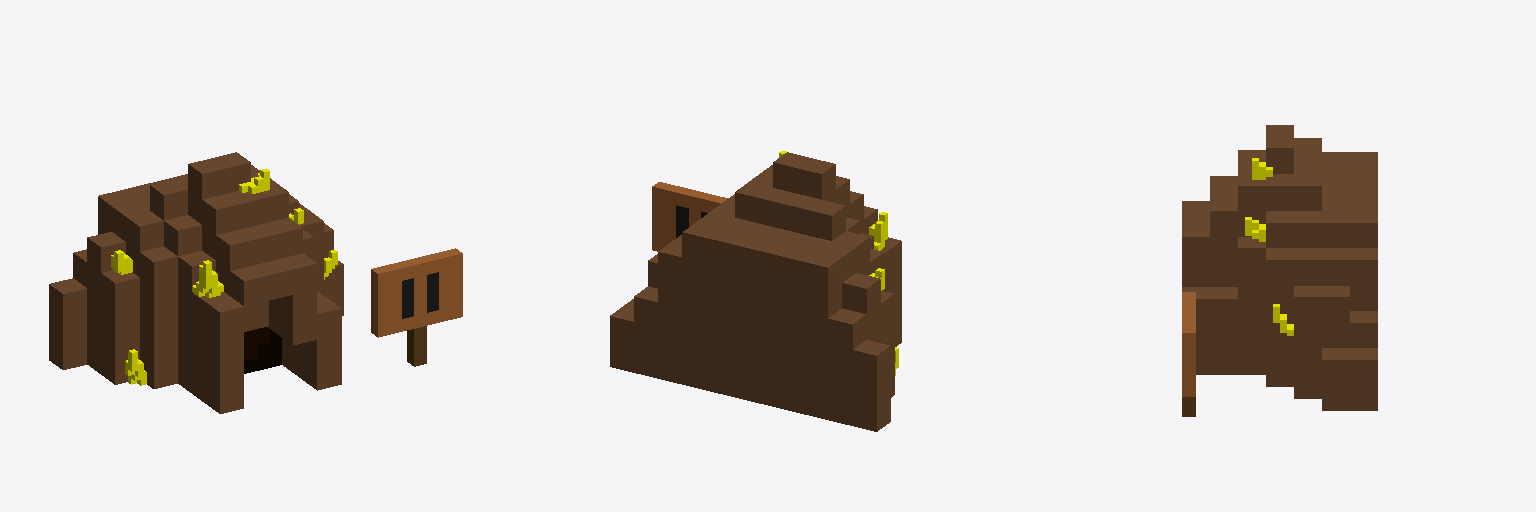
3 views of the same model, side by side, from view 1: azimuth 30°, elevation 25°; view 2: azimuth 150°, elevation 25°; view 3: azimuth 270°, elevation 25° (orthographic).
Visible parts, largest first — view 1: object 1; view 2: object 1; view 3: object 1.
Boxes of the visible parts, x1=… form: object 1: x1=49, y1=152, x2=462, y2=413; object 1: x1=610, y1=151, x2=901, y2=431; object 1: x1=1182, y1=125, x2=1377, y2=416.
Size of the model in its own units: 5.2 by 3.2 by 2.8.
1 materials, 1 textured.